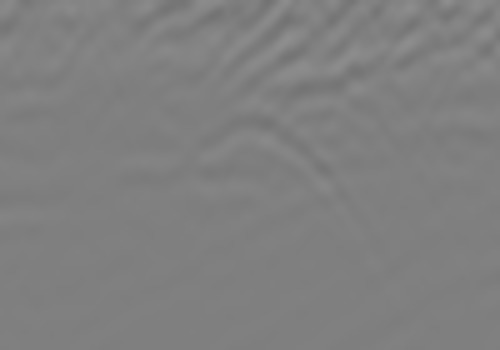hyperbola: (122, 100, 395, 291)
